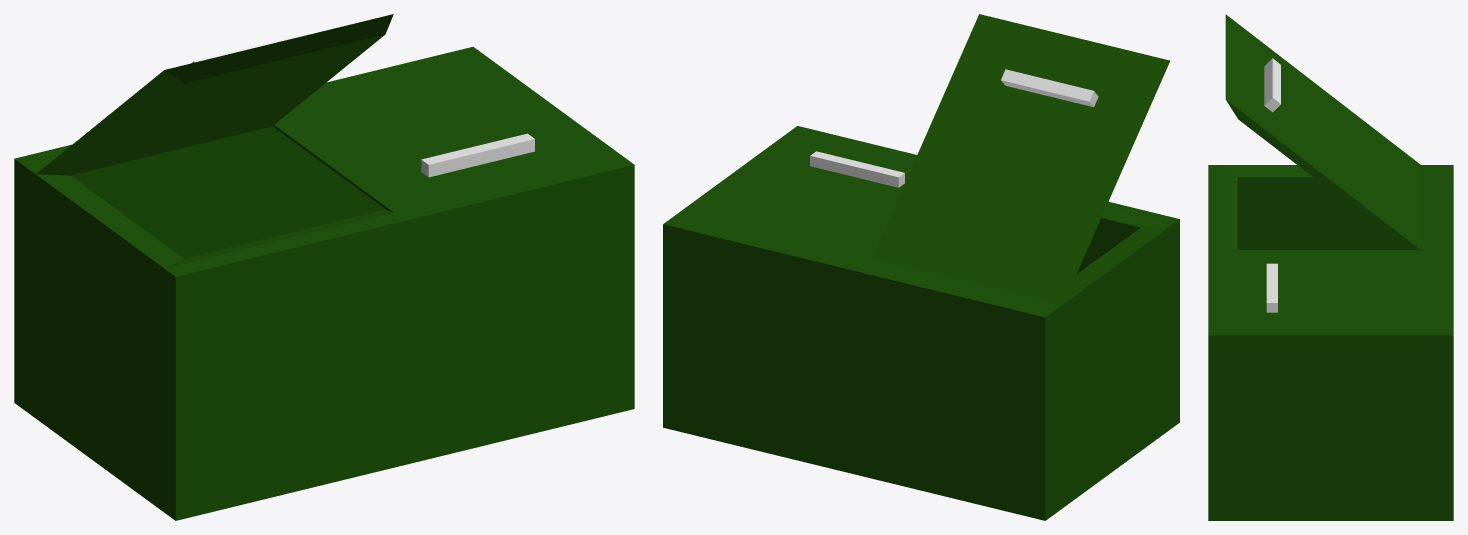
The model's file is Dumpster_Bin.obj.
3 views of the same model, side by side, from view 1: azimuth 30°, elevation 25°; view 2: azimuth 150°, elevation 25°; view 3: azimuth 270°, elevation 25° (orthographic). The views are drawn at different scales.
Parts seen in each view (by area): view 1: pCube90; view 2: pCube90; view 3: pCube90.
Boxes of the visible parts, left/top/right/bottom form: pCube90: left=14, top=14, right=634, bottom=520; pCube90: left=663, top=14, right=1179, bottom=520; pCube90: left=1208, top=14, right=1453, bottom=520.
Bounding box in the file's own units: 4.32 × 3.98 × 2.63.
